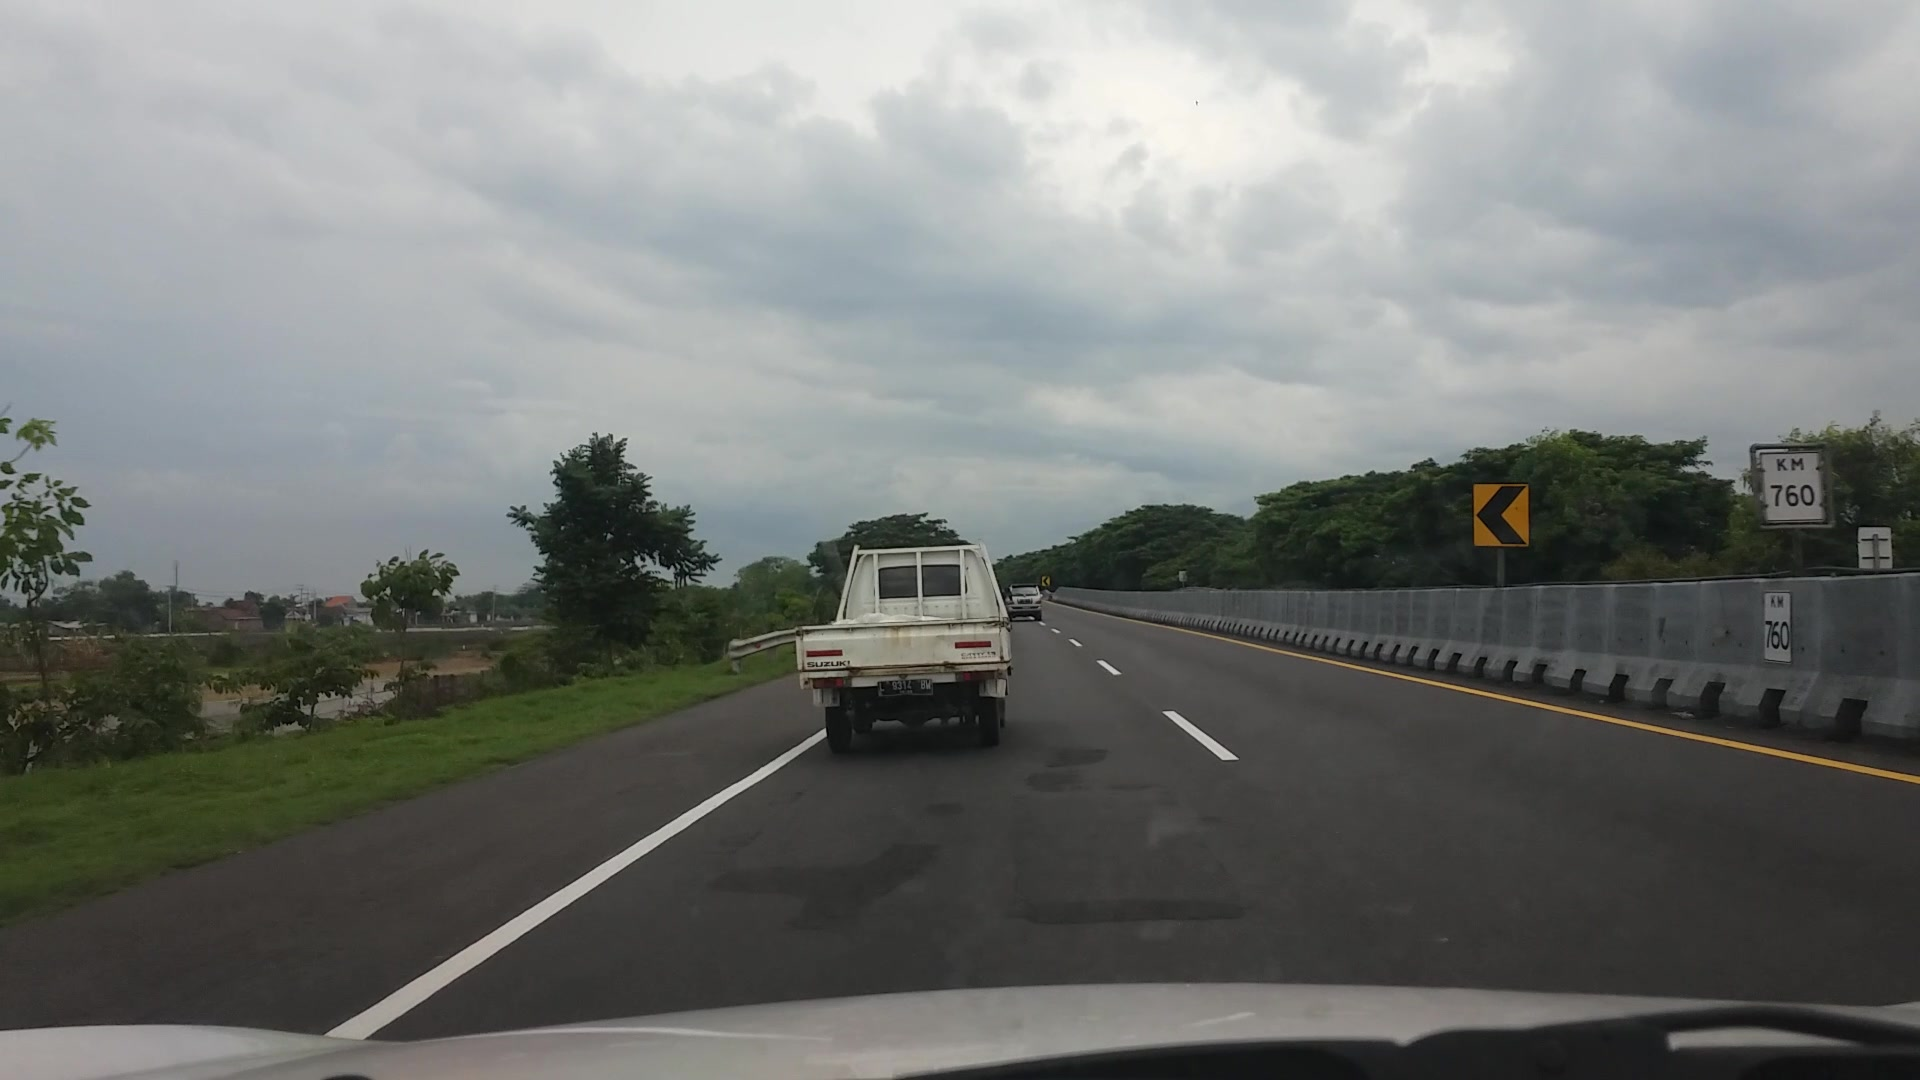plate_positive: (878, 679, 934, 696)
